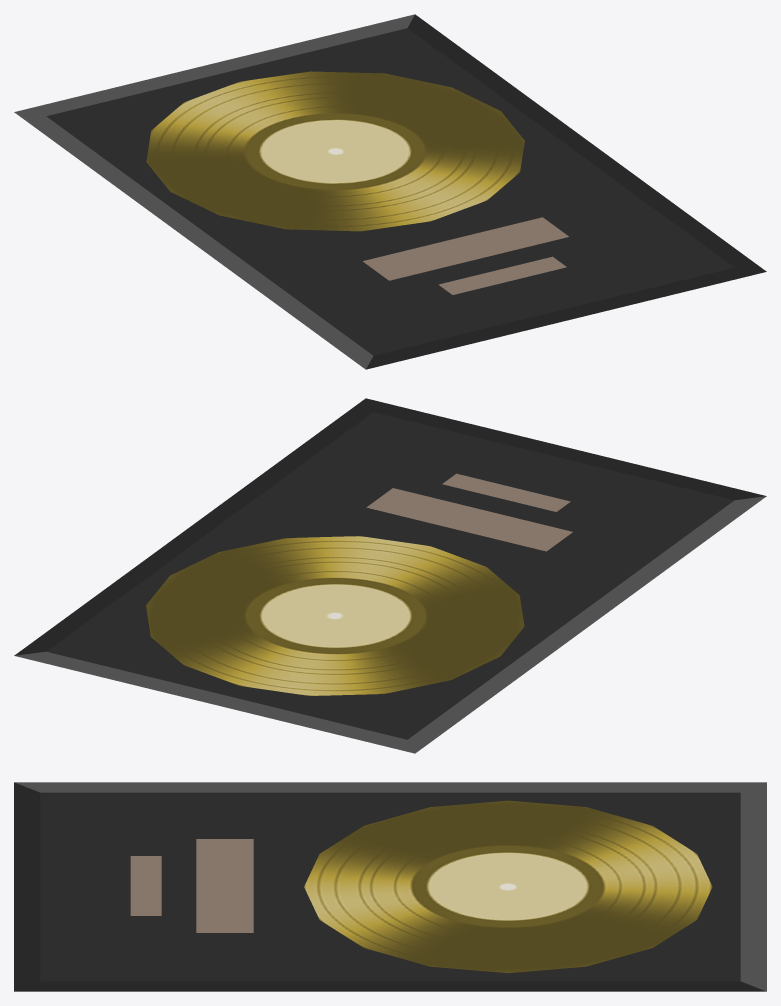
The model's file is Reward B.fbx.
3 views of the same model, one above another, from view 1: azimuth 30°, elevation 25°; view 2: azimuth 150°, elevation 25°; view 3: azimuth 270°, elevation 25° (orthographic). The views are drawn at different scales.
Visible parts, largest first — view 1: Cylinder.005; view 2: Cylinder.005; view 3: Cylinder.005.
Part boxes in pixels (<box>): Cylinder.005: <box>14,14,766,369</box>; Cylinder.005: <box>14,398,766,753</box>; Cylinder.005: <box>14,782,766,991</box>.
Bounding box in the file's own units: 30.33 × 0.0139 × 46.07.
